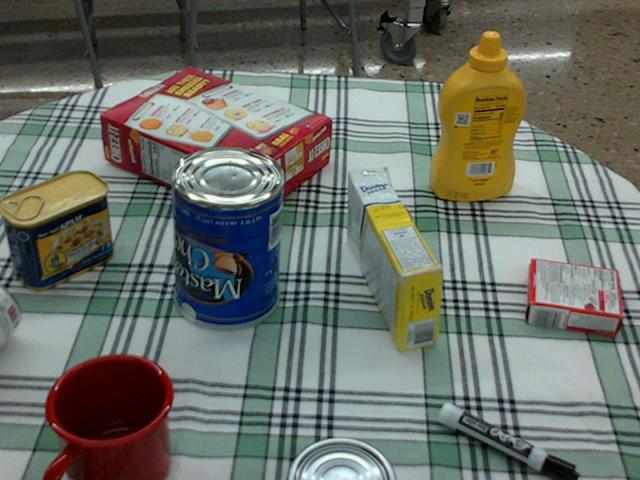cracker_box: (100, 68, 329, 218)
gelatin_box: (525, 259, 620, 337)
large_marker: (438, 402, 577, 479)
master_chef_can: (167, 146, 282, 329)
mug: (40, 351, 168, 479)
mustard_bottle: (428, 31, 524, 199)
potted_meat_can: (0, 170, 112, 289)
sugar_box: (345, 169, 442, 349)
tomato_soup_can: (0, 284, 19, 347)
tuna_fish_can: (284, 439, 393, 479)
